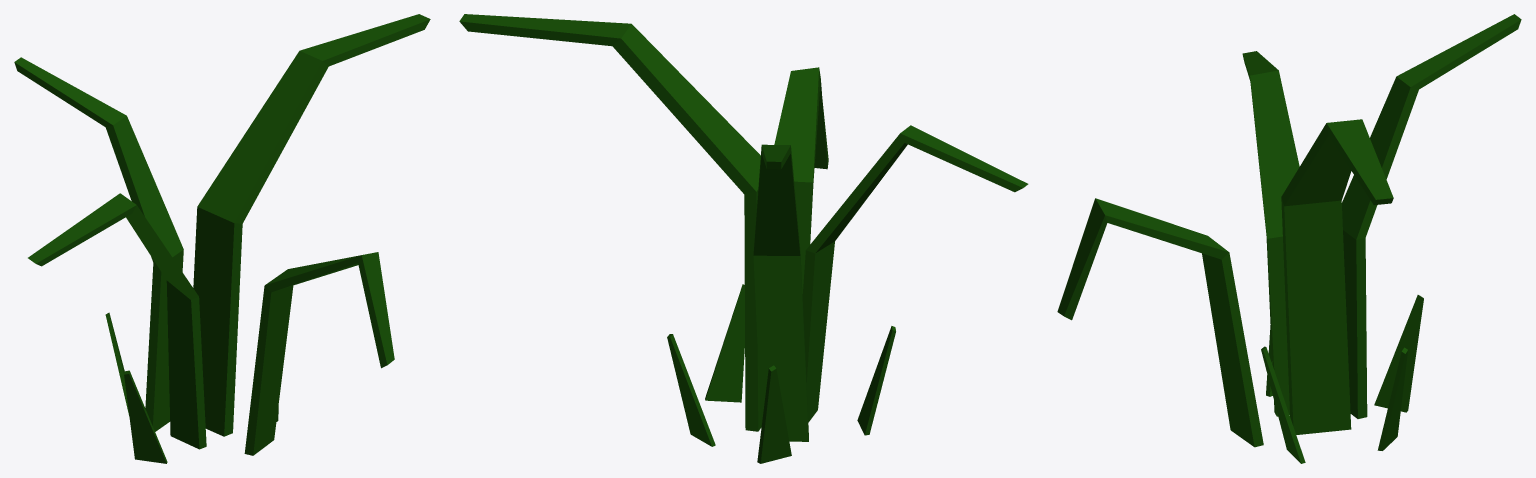
Rendered from Grass02.fbx.
3 views of the same model, side by side, from view 1: azimuth 30°, elevation 25°; view 2: azimuth 150°, elevation 25°; view 3: azimuth 270°, elevation 25° (orthographic). The views are drawn at different scales.
Parts seen in each view (by area): view 1: Grass02; view 2: Grass02; view 3: Grass02.
Part boxes in pixels (x1=…): Grass02: x1=14, y1=14, x2=430, y2=463; Grass02: x1=459, y1=14, x2=1028, y2=463; Grass02: x1=1057, y1=14, x2=1521, y2=463.
Size of the model in its own units: 242 by 171 by 194.
